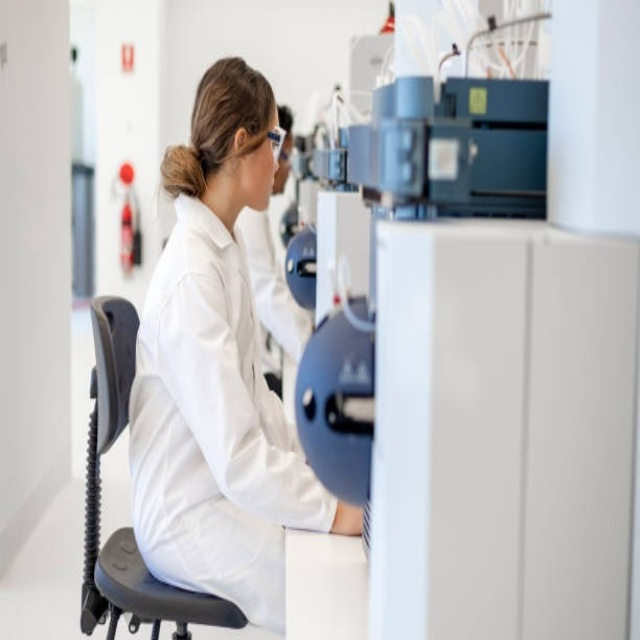Gafas: (266, 126, 286, 163)
Sin_mascara: (256, 171, 280, 209)
